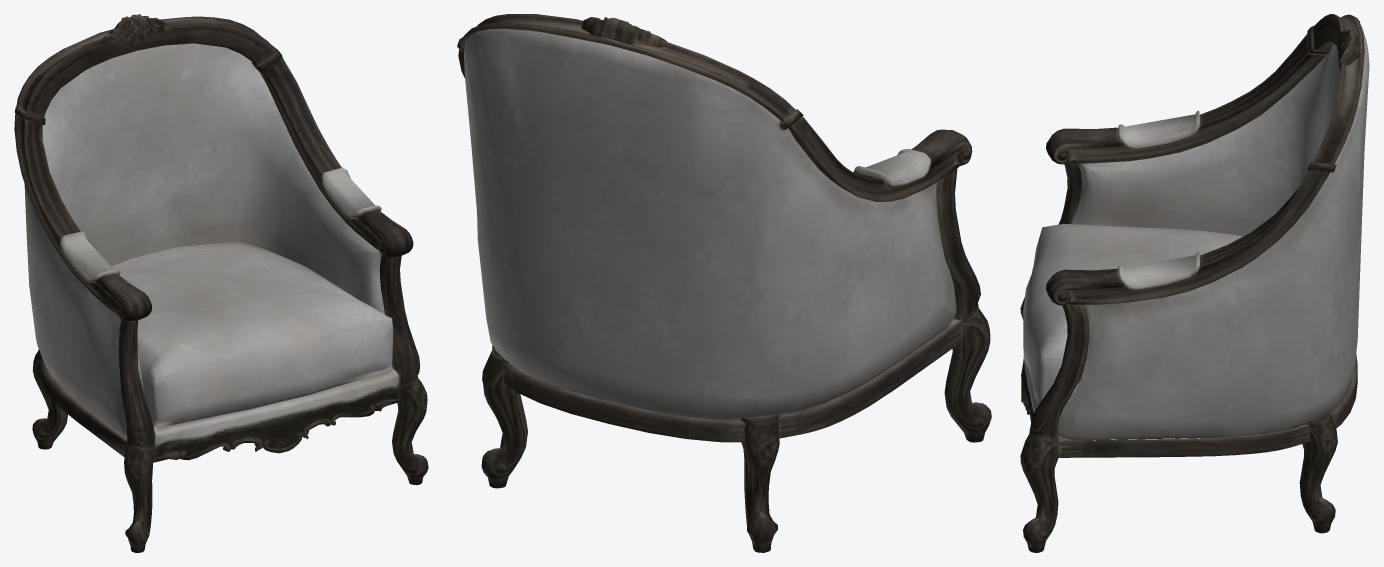
File: armchair.glb
3 renders of one model, left to right at view 1: azimuth 30°, elevation 25°; view 2: azimuth 150°, elevation 25°; view 3: azimuth 270°, elevation 25°, orthographic. The views are drawn at different scales.
Parts seen in each view (by area): view 1: ArmChair_01; view 2: ArmChair_01; view 3: ArmChair_01.
Boxes of the visible parts, x1,y1,x2,y2 form: ArmChair_01: (14,14,428,552); ArmChair_01: (457,14,991,552); ArmChair_01: (1020,14,1369,552).
Bounding box in the file's own units: 0.8483 × 1.06 × 0.7658.
1 material, 1 textured.
